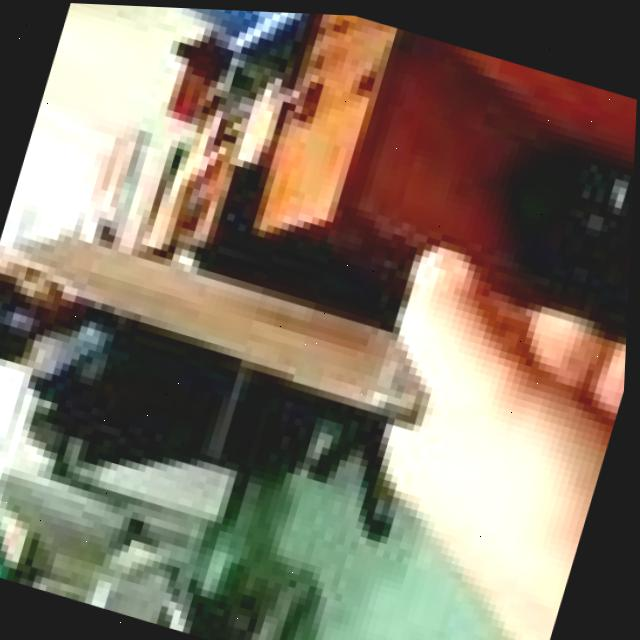knife: (0, 203, 435, 422)
